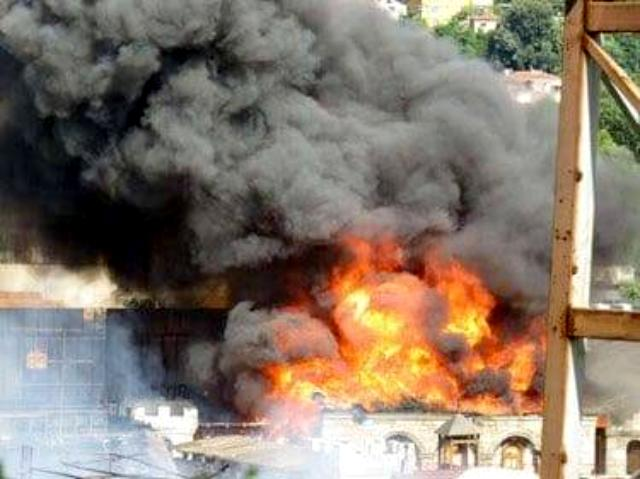fire: (251, 228, 549, 440)
